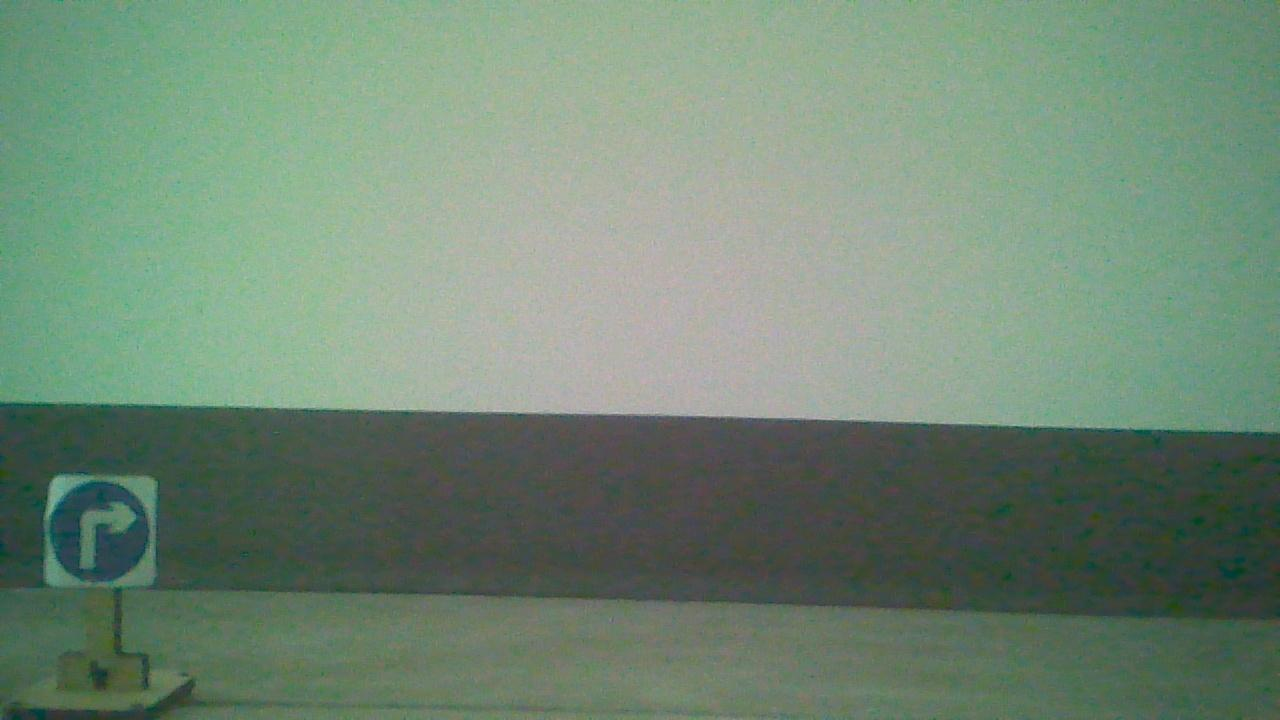turn: (45, 481, 154, 589)
